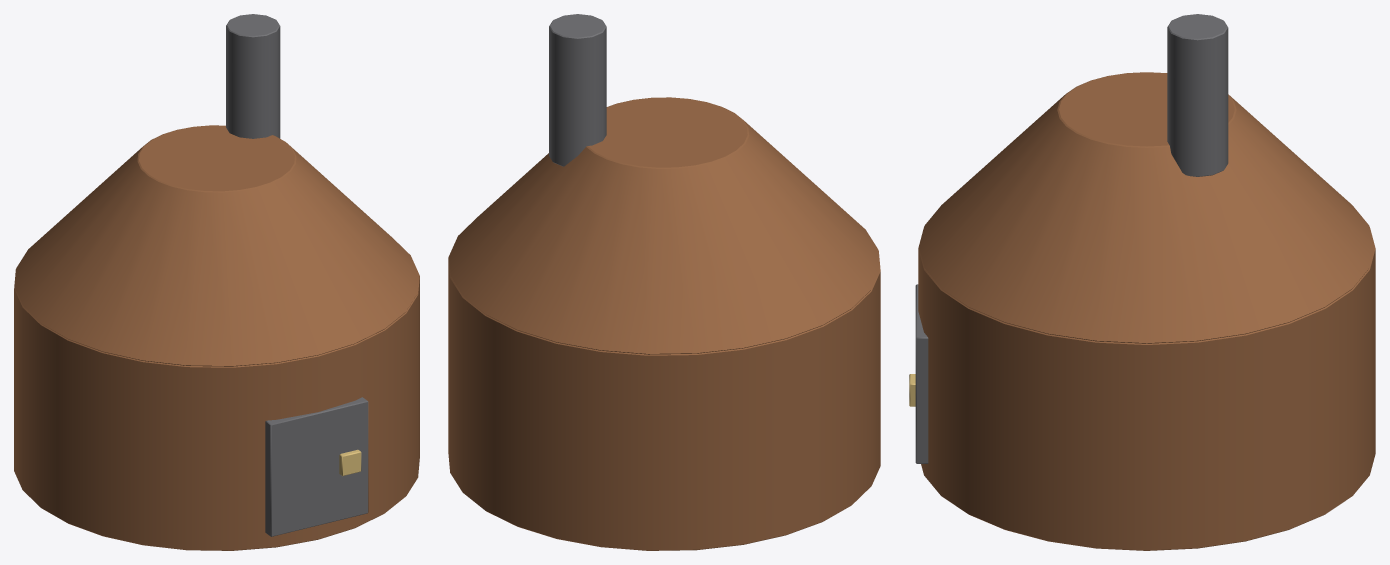
Rendered from feM_Kiln.fbx.
3 views of the same model, side by side, from view 1: azimuth 30°, elevation 25°; view 2: azimuth 150°, elevation 25°; view 3: azimuth 270°, elevation 25° (orthographic). The views are drawn at different scales.
Visible parts, largest first — view 1: feM_Kiln_Base; view 2: feM_Kiln_Base; view 3: feM_Kiln_Base.
Part boxes in pixels (left/top/right/bottom): feM_Kiln_Base: left=14, top=14, right=419, bottom=550; feM_Kiln_Base: left=448, top=14, right=880, bottom=550; feM_Kiln_Base: left=909, top=14, right=1375, bottom=550.
Size of the model in its own units: 1.8 by 2 by 1.83.
